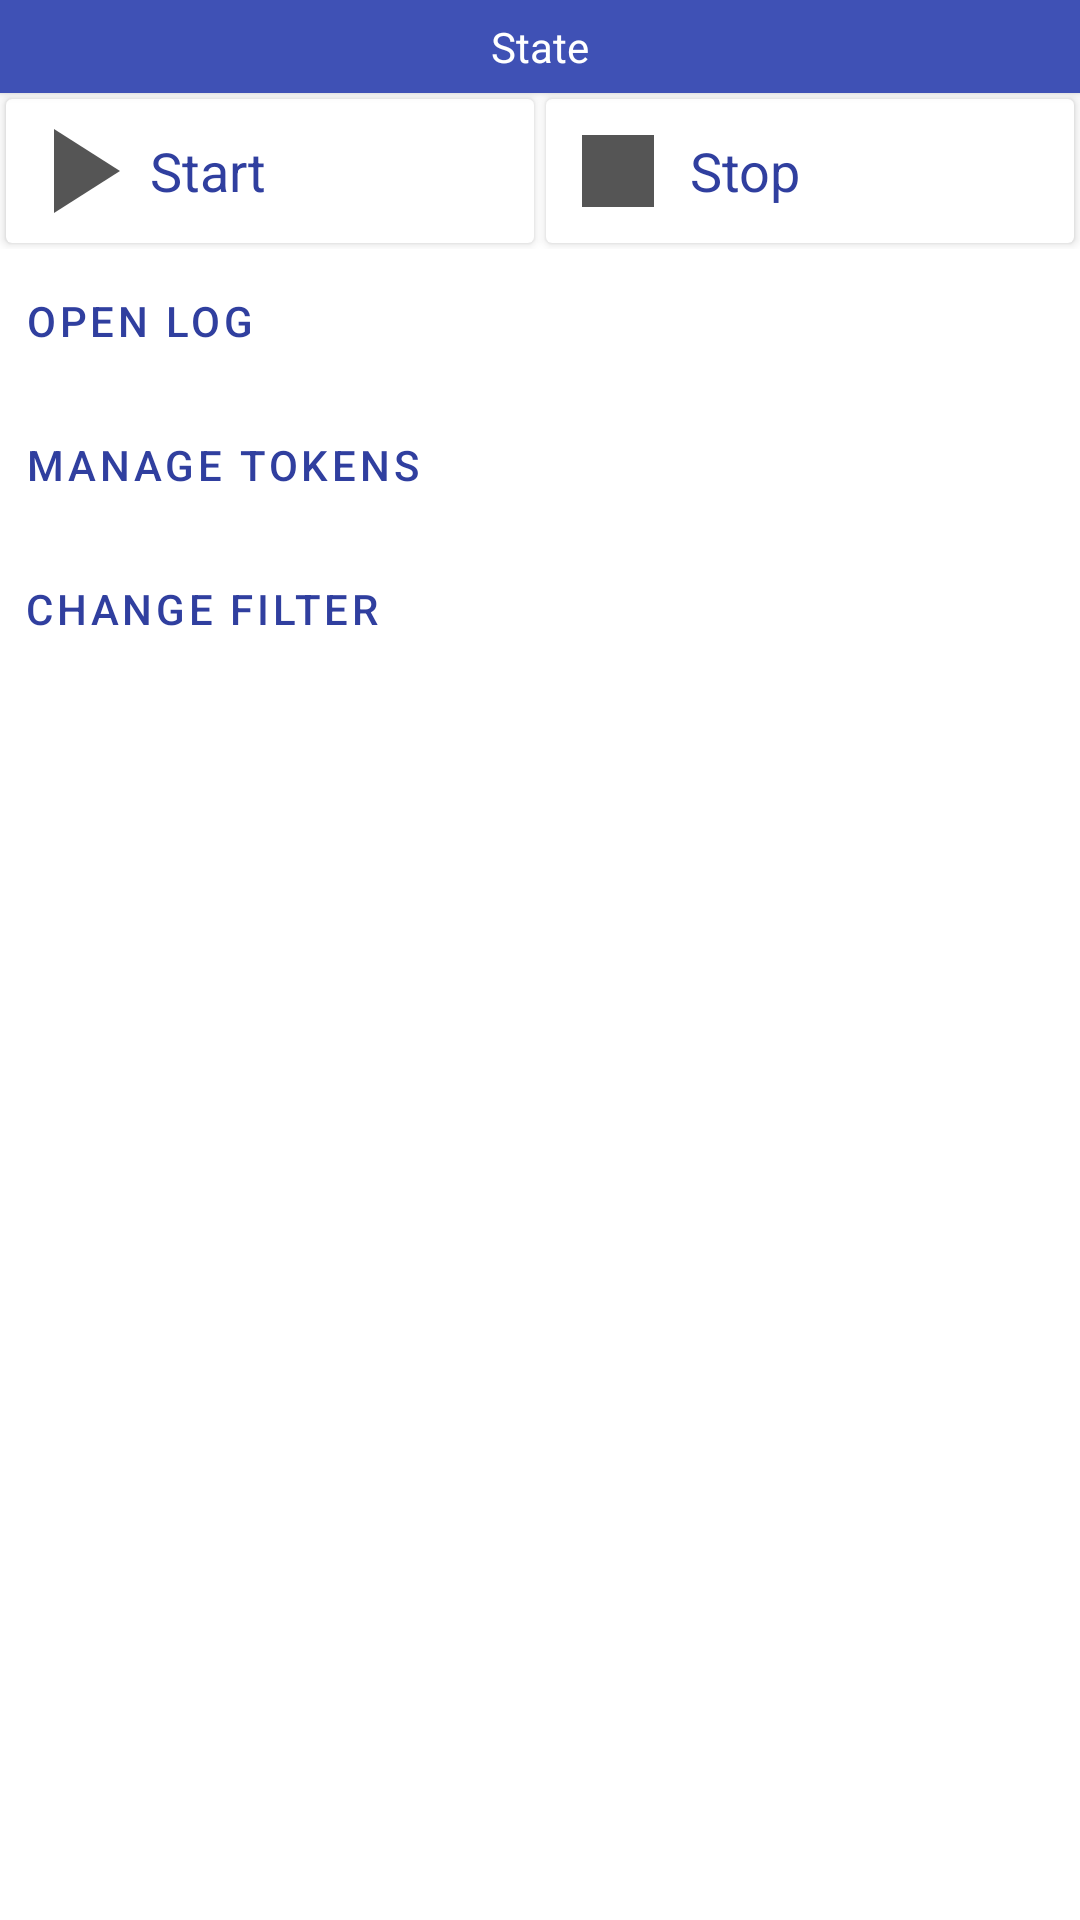

Where to tap for icons on this 1080 x 1920 app screen, as point (x, y):
play arrow: point (63, 171)
